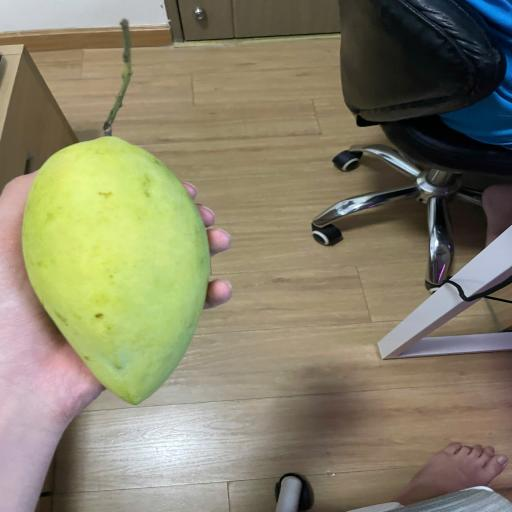xoai: (23, 136, 210, 404)
